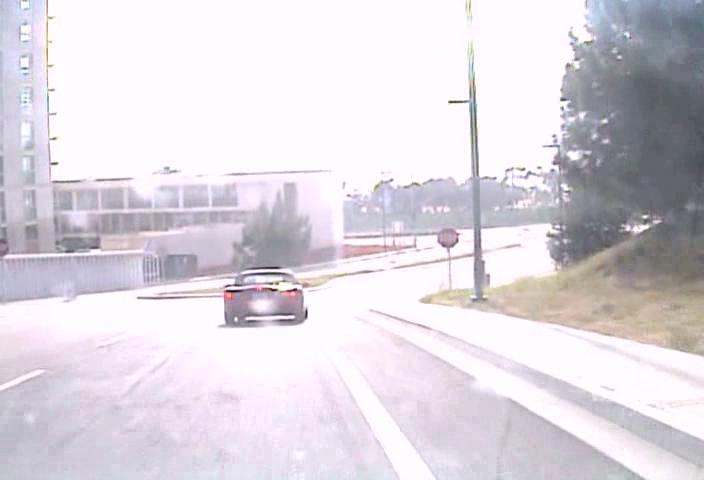stop: (437, 226, 459, 248)
